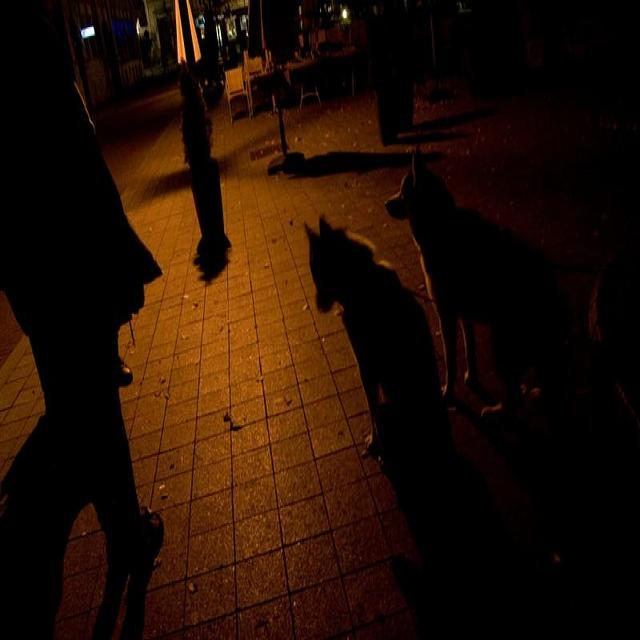People: (0, 0, 175, 586)
dog: (375, 156, 613, 423), (295, 211, 419, 515)
